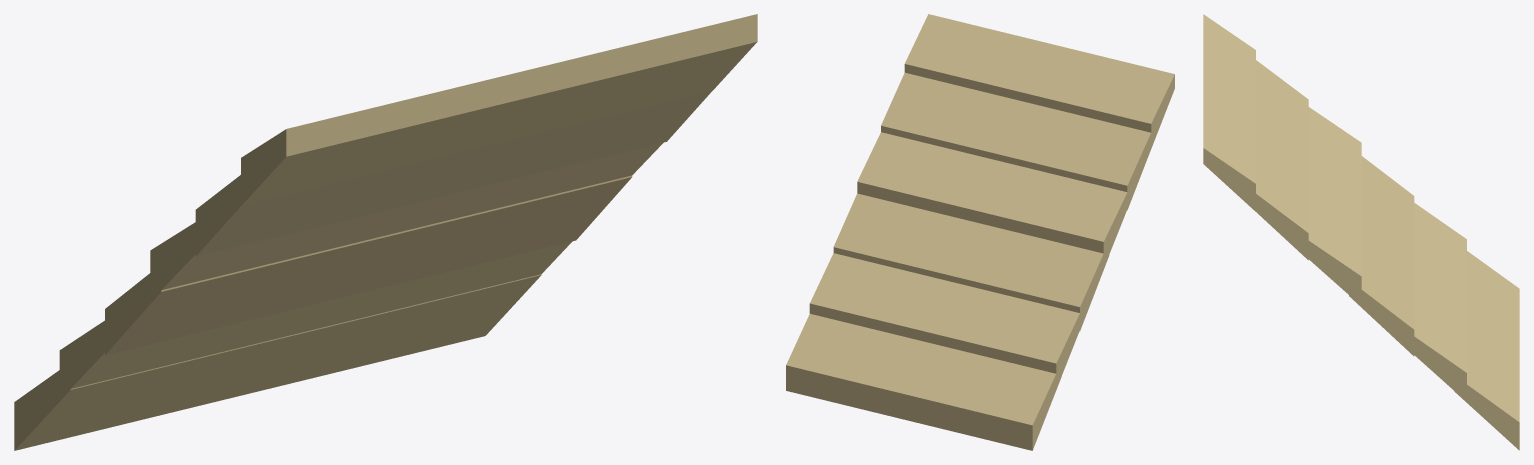
File: thatch_roof_slope_steep.glb
3 views of the same model, side by side, from view 1: azimuth 30°, elevation 25°; view 2: azimuth 150°, elevation 25°; view 3: azimuth 270°, elevation 25° (orthographic). The views are drawn at different scales.
Parts seen in each view (by area): view 1: Roof; view 2: Roof; view 3: Roof.
Part boxes in pixels (x1=…): Roof: x1=14, y1=14, x2=757, y2=450; Roof: x1=786, y1=14, x2=1174, y2=450; Roof: x1=1203, y1=14, x2=1519, y2=450.
Bounding box in the file's own units: 3 × 3.17 × 3.
